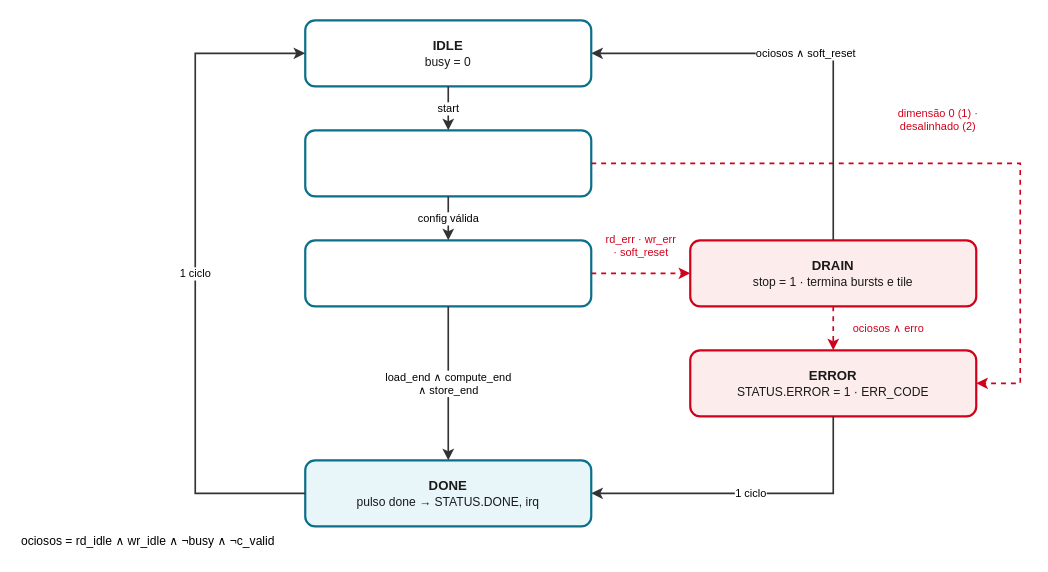
Image size: 1048x572. Some labels were removed from this diagram. The box of each missing label's shape, as (x1, y1, x2, y2) in pixels:
CHECK dimensões ≥ 1 · ADDR alinhados · strides: (304, 129, 592, 197)
RUN run = 1 · load, compute, store ativos: (304, 239, 592, 307)
